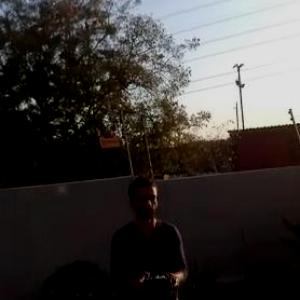follow: (102, 167, 195, 299)
